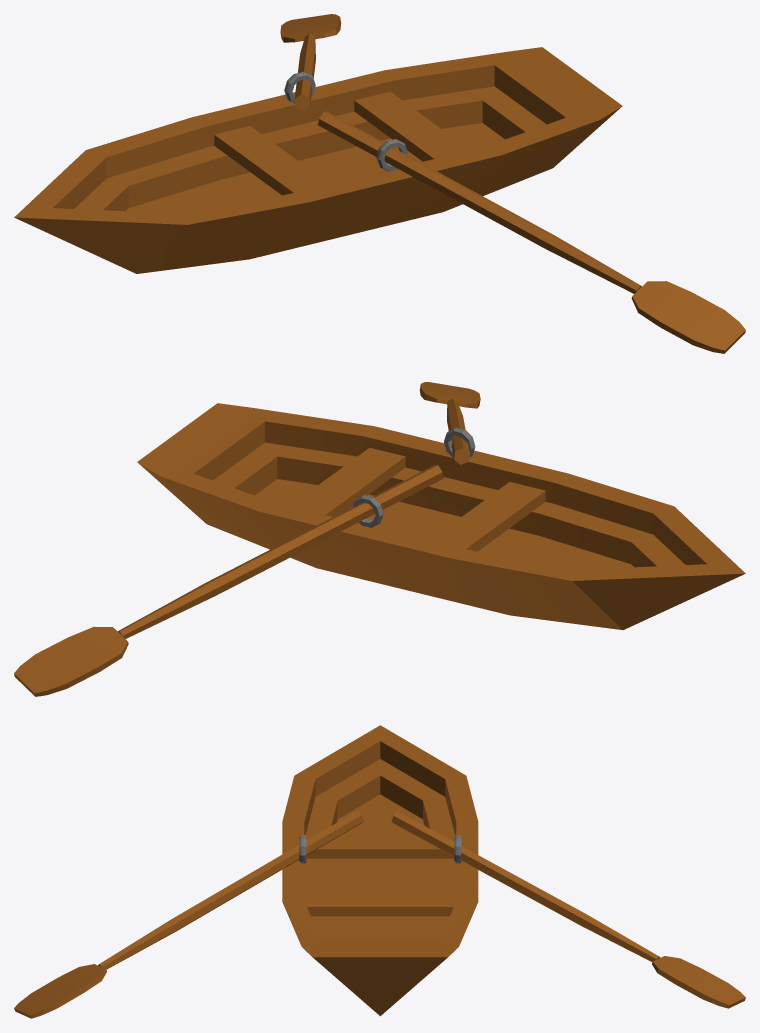
File: Prop_Row_Boat_01.fbx
3 views of the same model, one above another, from view 1: azimuth 30°, elevation 25°; view 2: azimuth 150°, elevation 25°; view 3: azimuth 270°, elevation 25° (orthographic). The views are drawn at different scales.
Parts seen in each view (by area): view 1: Prop_Row_Boat_01; view 2: Prop_Row_Boat_01; view 3: Prop_Row_Boat_01.
Part boxes in pixels (box(x1,y1,x2,y2)): Prop_Row_Boat_01: box(14, 14, 745, 353); Prop_Row_Boat_01: box(14, 382, 745, 696); Prop_Row_Boat_01: box(14, 725, 745, 1018).
Size of the model in its own units: 137 by 32.72 by 180.
